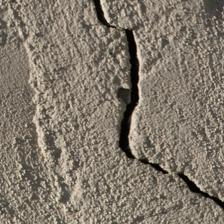Crack: (39, 60, 127, 165), (0, 28, 156, 64)
